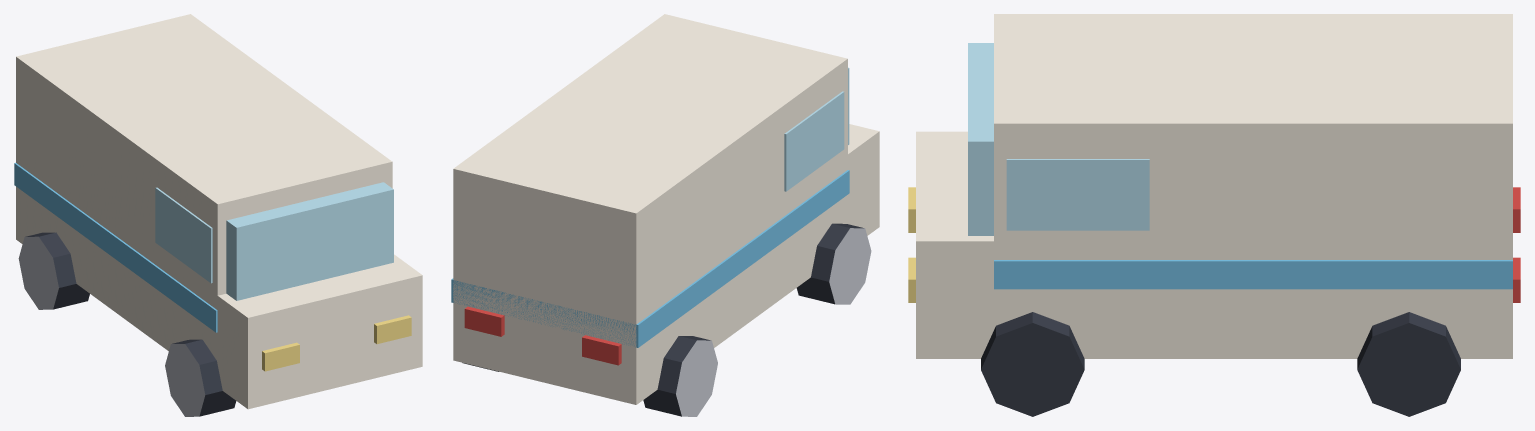
File: vehicle_van.glb
3 views of the same model, side by side, from view 1: azimuth 30°, elevation 25°; view 2: azimuth 150°, elevation 25°; view 3: azimuth 270°, elevation 25° (orthographic). The views are drawn at different scales.
Visible parts, largest first — view 1: vehicle_van; view 2: vehicle_van; view 3: vehicle_van.
Boxes of the visible parts, x1,y1,x2,y2 form: vehicle_van: (14,14,422,416); vehicle_van: (451,14,879,416); vehicle_van: (908,14,1520,416).
Size of the model in its own units: 0.12 by 0.12 by 0.236.
